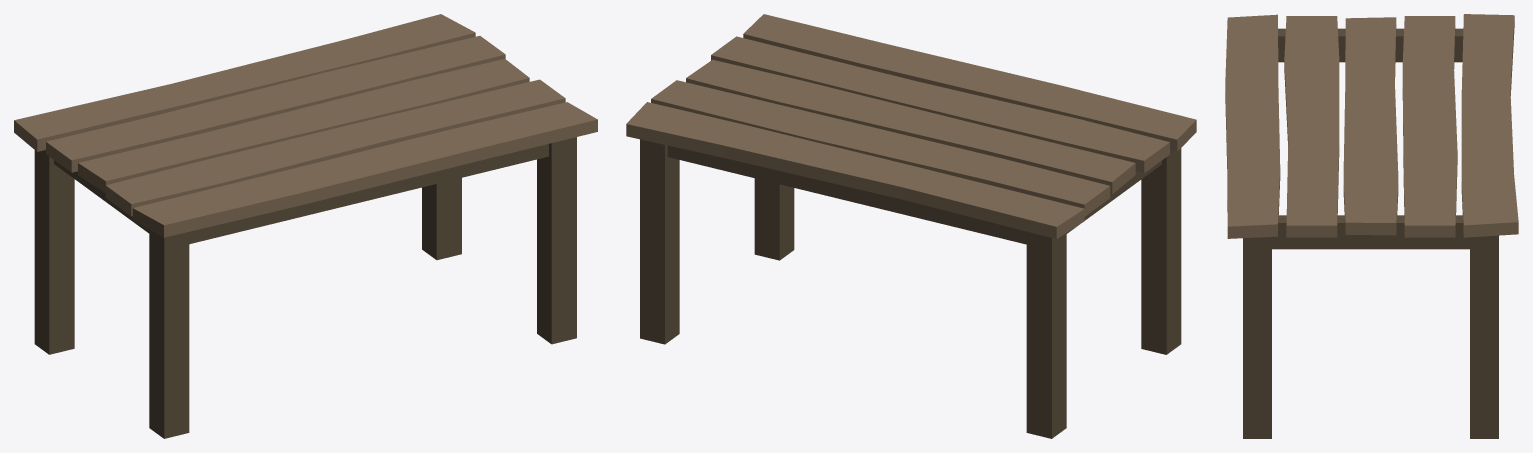
File: market_table_b.FBX
3 renders of one model, left to right at view 1: azimuth 30°, elevation 25°; view 2: azimuth 150°, elevation 25°; view 3: azimuth 270°, elevation 25°, orthographic.
Parts seen in each view (by area): view 1: market_table_b; view 2: market_table_b; view 3: market_table_b.
Boxes of the visible parts, bbox=[...] form: market_table_b: bbox=[14, 14, 597, 438]; market_table_b: bbox=[626, 14, 1196, 438]; market_table_b: bbox=[1225, 14, 1518, 438].
Size of the model in its own units: 2.25 by 1.08 by 1.31.
